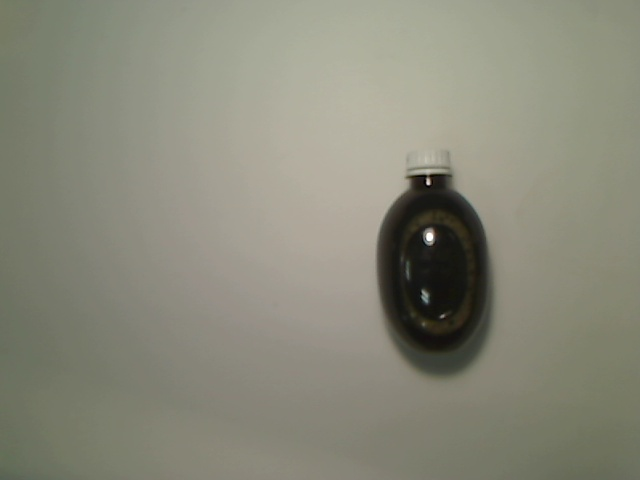plast_bottle: (375, 145, 492, 357)
